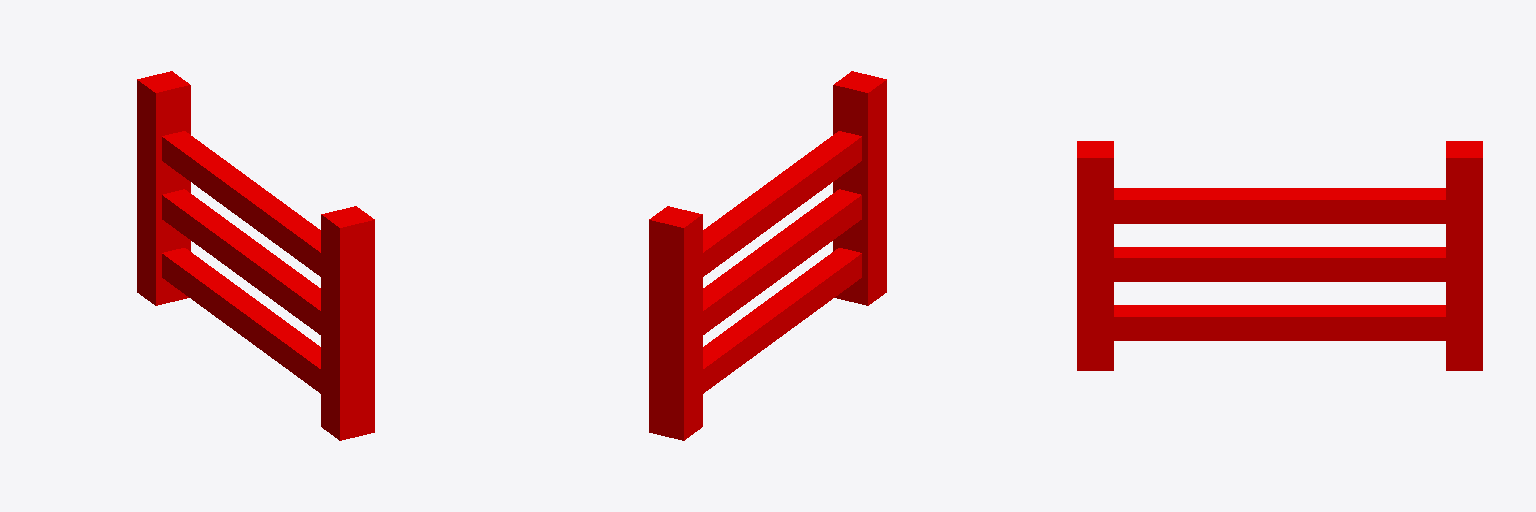
The model's file is vinylFence.obj.
The picture shows the model from 3 angles: view 1: azimuth 30°, elevation 25°; view 2: azimuth 150°, elevation 25°; view 3: azimuth 270°, elevation 25°; orthographic projection.
Visible parts, largest first — view 1: Cube.006_Cube.044; view 2: Cube.006_Cube.044; view 3: Cube.006_Cube.044.
Part boxes in pixels (bbox=[...]): Cube.006_Cube.044: bbox=[137, 71, 374, 440]; Cube.006_Cube.044: bbox=[649, 71, 886, 440]; Cube.006_Cube.044: bbox=[1077, 141, 1482, 370].
Size of the model in its own units: 0.1 by 0.5834 by 1.01.